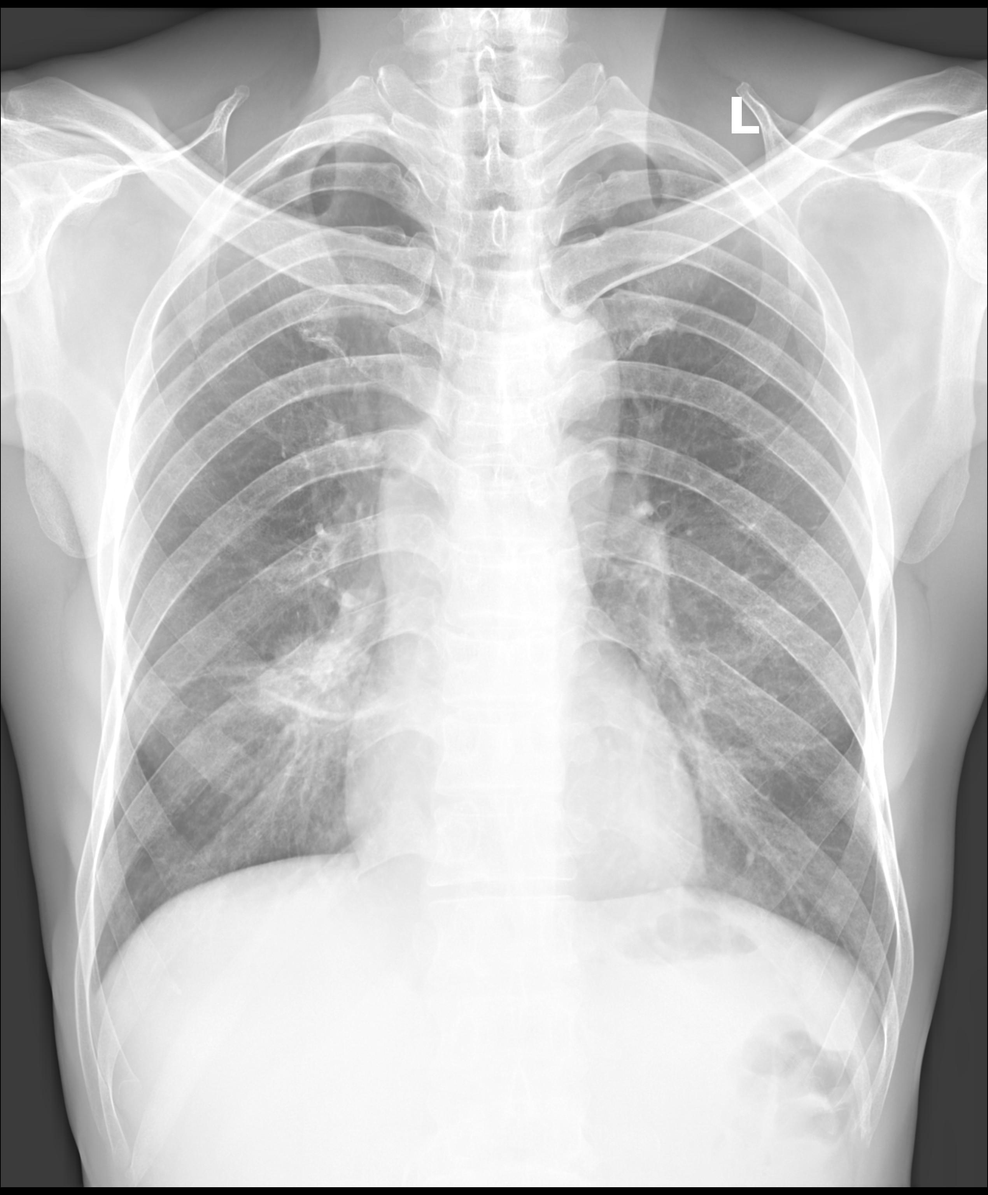Aortic enlargement: (370, 307, 615, 608)
Pulmonary fibrosis: (139, 643, 365, 722)
